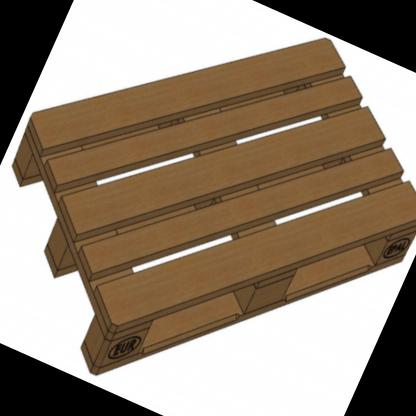BoxFace: (9, 37, 416, 379)
